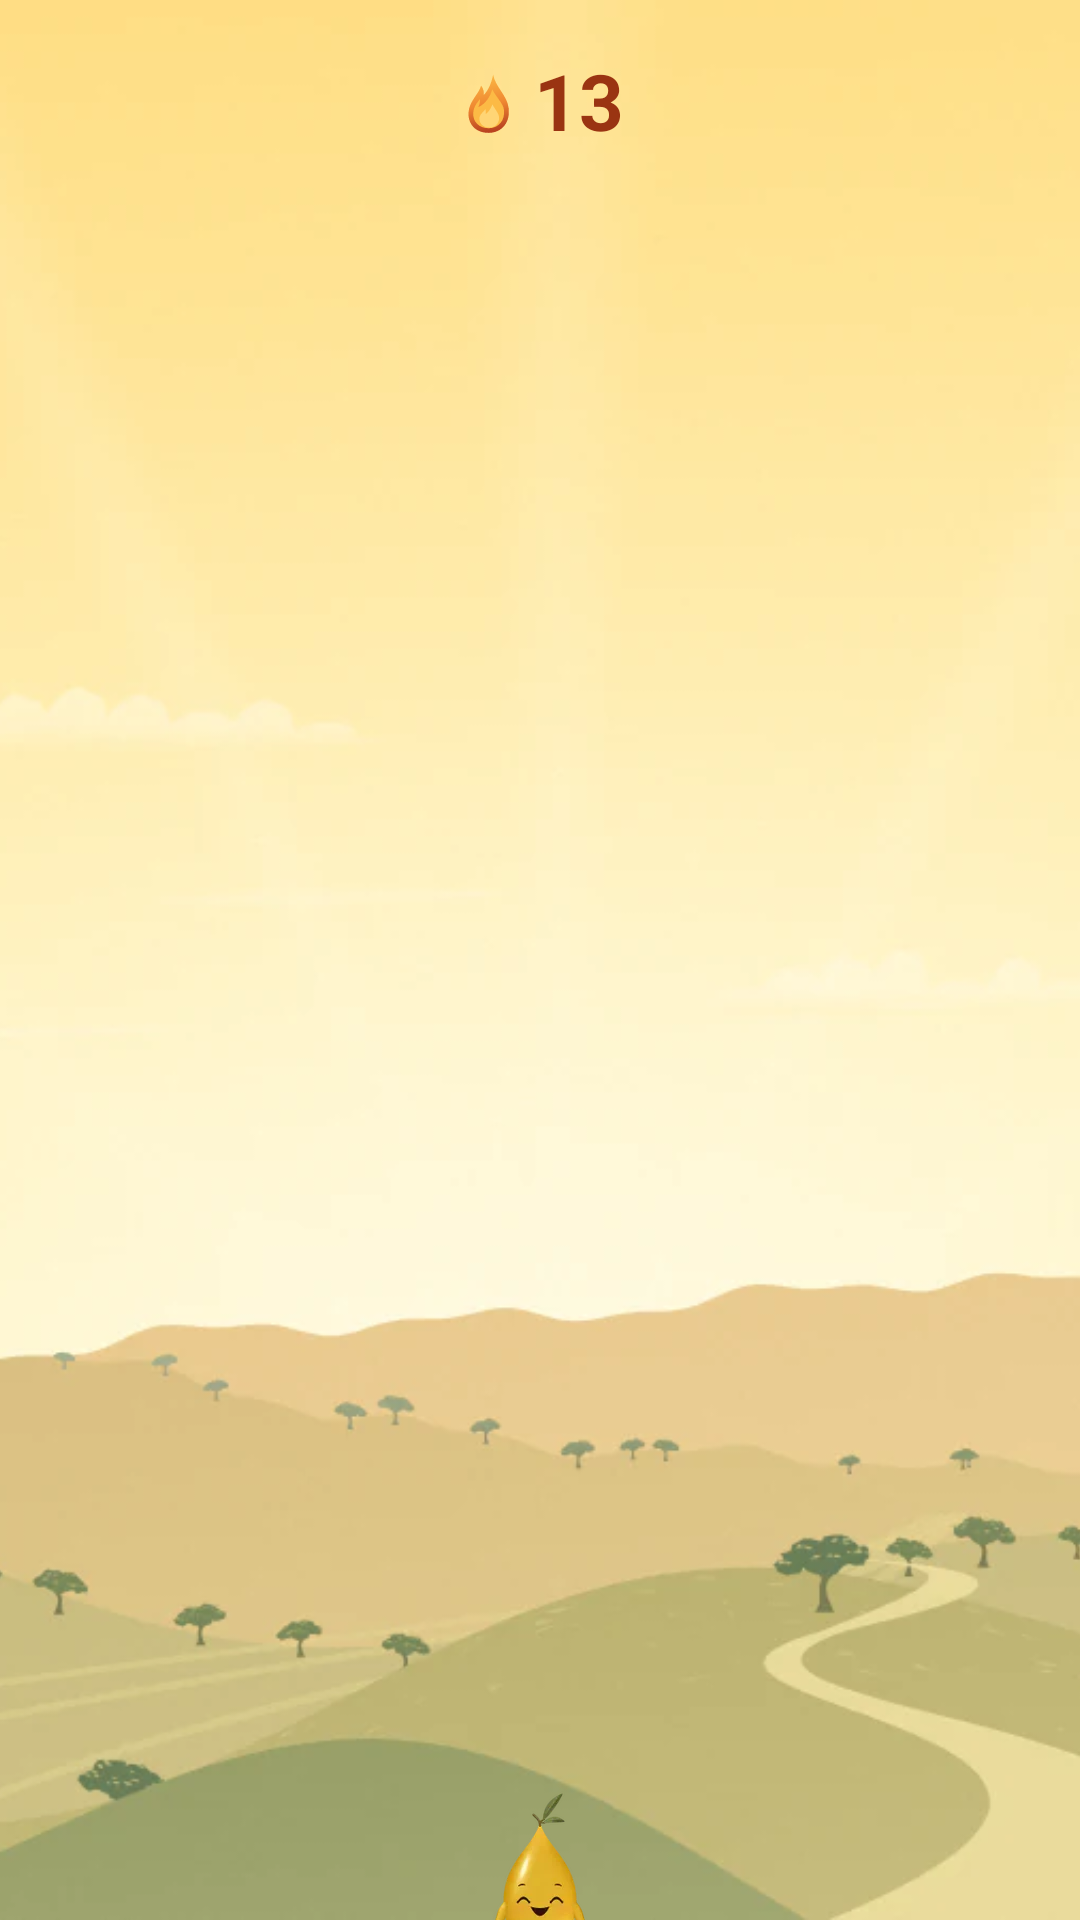

Icon bounding boxes for this 1080x1920 phone screenshot, format Rect(x1, y1, x2, y2):
hafiz widget flame lit: Rect(468, 75, 509, 133)
